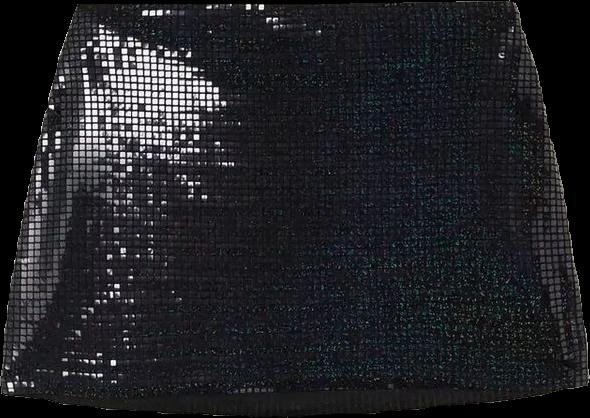Hemline: (0, 382, 589, 400)
Waistline: (76, 0, 515, 10)
